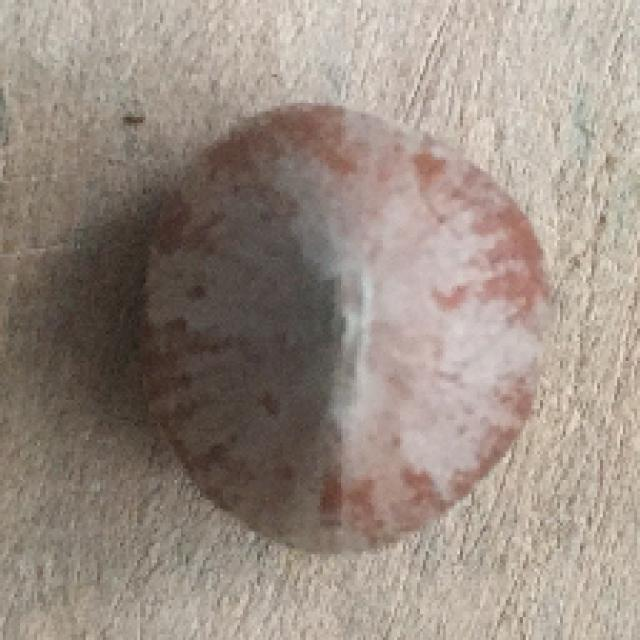qualityHazelnut: (143, 101, 547, 553)
